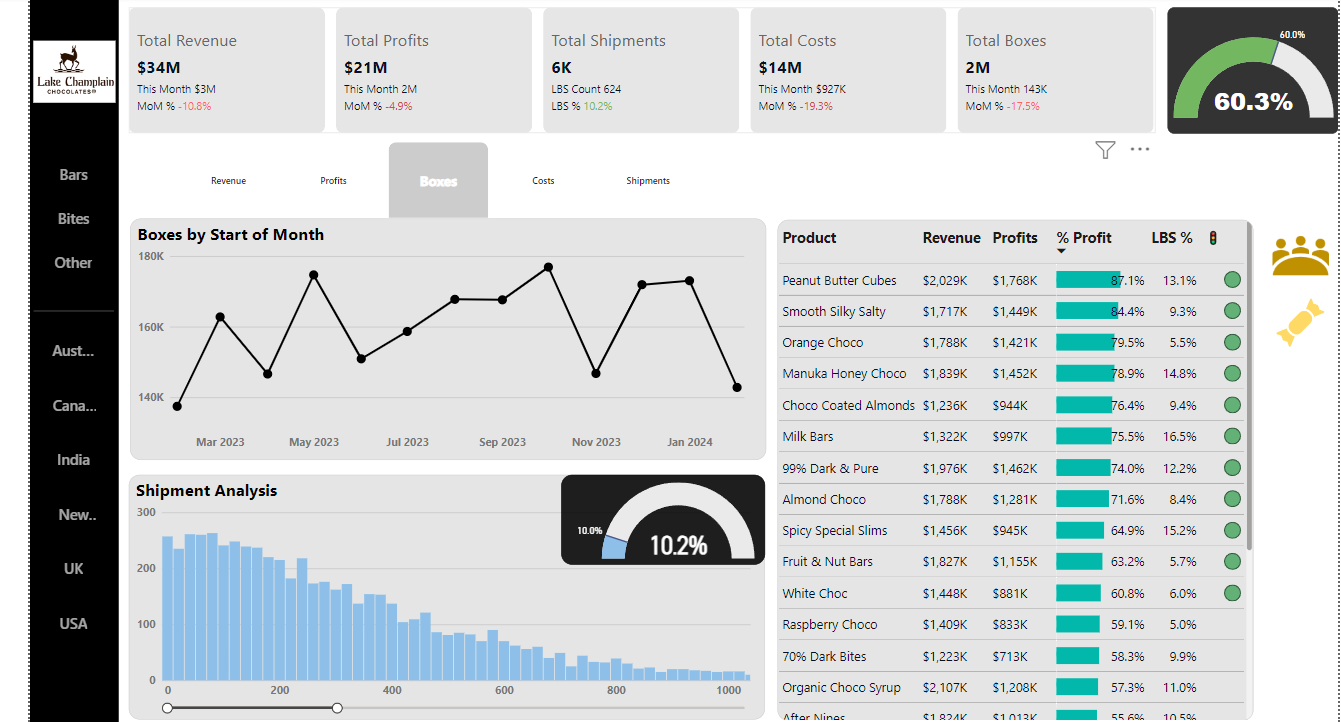

This screenshot's page, from the dashboard's own definition file:
{"tool":"powerbi","page":{"name":"Sales Report","canvas":[1920,1080],"ordinal":7},"visuals":[{"type":"shape","box":[0,0,130.2,1080.4],"z":0},{"type":"cardVisual","fields":{"Data":["_Measures.Total Revenue","_Measures.Total Profits","_Measures.Total Shipments","_Measures.Total Costs","_Measures.Total Boxes"]},"box":[144.9,16.5,1507.8,185.3],"z":1000},{"type":"gauge","fields":{"Y":["_Measures.% Profit"]},"box":[1669.2,16.5,251.3,185.3],"z":2000},{"type":"image","box":[0,37.2,130.3,149],"z":3000},{"type":"lineChart","fields":{"Y":["_Measures.Total Boxes"],"Category":["calendar.Start of Month"]},"box":[146.7,326.5,933.6,354],"z":4000},{"type":"advancedSlicerVisual","fields":{"Values":["Measure Selector.Measure Selector"]},"box":[218.3,214.6,763,111.9],"z":5000},{"type":"columnChart","title":"Shipment Analysis","fields":{"Category":["shipments.Boxes (bins)"],"Y":["_Measures.Total Shipments"]},"box":[144.9,702.5,933.6,359.5],"z":6000},{"type":"gauge","fields":{"Y":["_Measures.LBS %"]},"box":[779.6,702.5,299,132.1],"z":7000},{"type":"tableEx","title":"product details","fields":{"Values":["products.Product","_Measures.Total Revenue","_Measures.Total Profits","_Measures.% Profit","_Measures.LBS %","_Measures.Profit Target Indicator"]},"box":[1096.7,327.7,698.2,735.5],"z":9000},{"type":"image","title":"people","box":[1809,326.1,111.4,109.4],"z":10000},{"type":"image","title":"product","box":[1807.8,436.4,111.7,85.7],"z":11000},{"type":"advancedSlicerVisual","fields":{"Values":["products.Category"]},"box":[13,227.2,102.4,199.2],"z":12000},{"type":"advancedSlicerVisual","fields":{"Values":["locations.Geo"]},"box":[13,478.5,102.4,486],"z":13000},{"type":"shape","box":[5.6,404,117.3,117.3],"z":14000}]}

Visuals, with their boxes on the page's 1920x1080 design canvas (x1, y1, x2, y2). These are canvas units, not pixel positions in the 1341x722 screenshot, which may show the page scaled, cropped or inside an application window:
shape: 0,0,130,1080
cardVisual - _Measures.Total Revenue x _Measures.Total Profits: 145,16,1653,202
gauge - _Measures.% Profit: 1669,16,1920,202
image: 0,37,130,186
lineChart - _Measures.Total Boxes x calendar.Start of Month: 147,326,1080,680
advancedSlicerVisual - Measure Selector.Measure Selector: 218,215,981,326
"Shipment Analysis" columnChart: 145,702,1078,1062
gauge - _Measures.LBS %: 780,702,1079,835
"product details" tableEx: 1097,328,1795,1063
"people" image: 1809,326,1920,436
"product" image: 1808,436,1920,522
advancedSlicerVisual - products.Category: 13,227,115,426
advancedSlicerVisual - locations.Geo: 13,478,115,964
shape: 6,404,123,521
